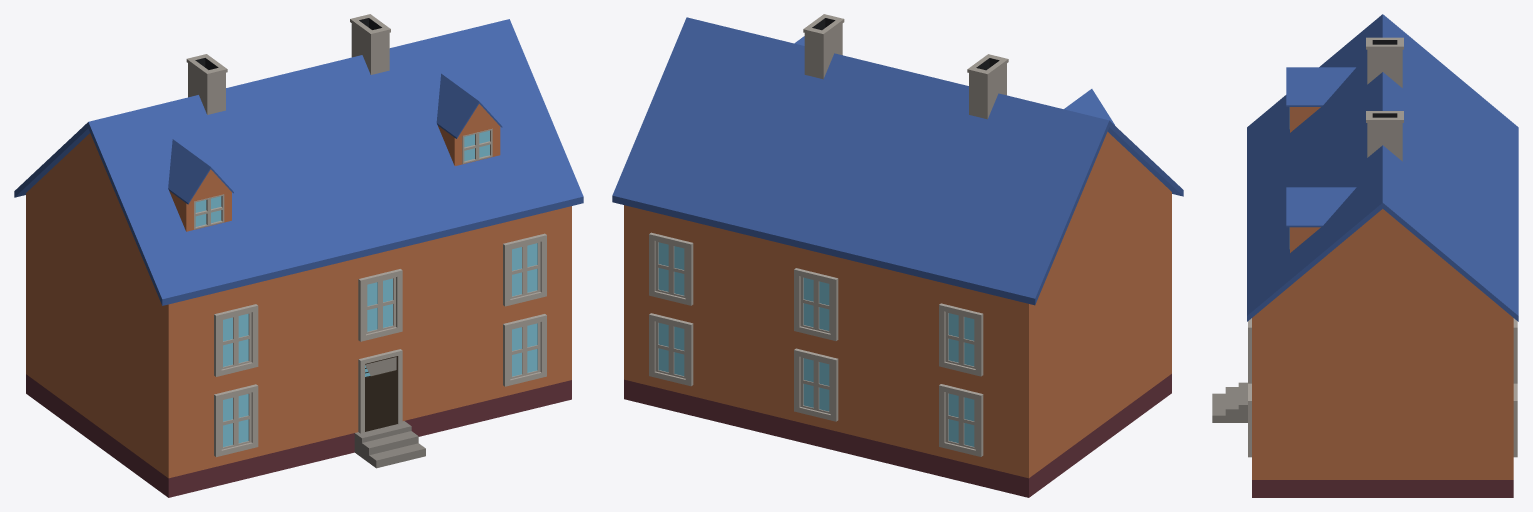
File: SM_Building_04_A.gltf
3 views of the same model, side by side, from view 1: azimuth 30°, elevation 25°; view 2: azimuth 150°, elevation 25°; view 3: azimuth 270°, elevation 25° (orthographic). The views are drawn at different scales.
Visible parts, largest first — view 1: SM_Building_04_A; view 2: SM_Building_04_A; view 3: SM_Building_04_A.
Part boxes in pixels (bbox=[...]): SM_Building_04_A: bbox=[14, 14, 583, 497]; SM_Building_04_A: bbox=[612, 14, 1183, 497]; SM_Building_04_A: bbox=[1212, 14, 1518, 497].
Bounding box in the file's own units: 4.33 × 3.47 × 2.97.
